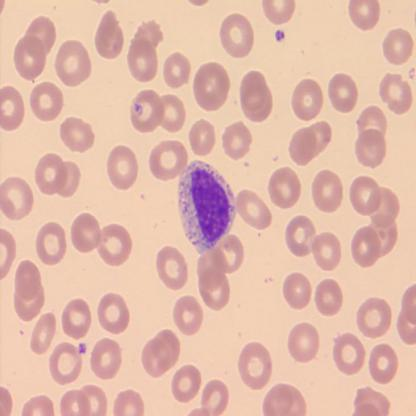Metamyelocyte: (176, 156, 238, 259)
